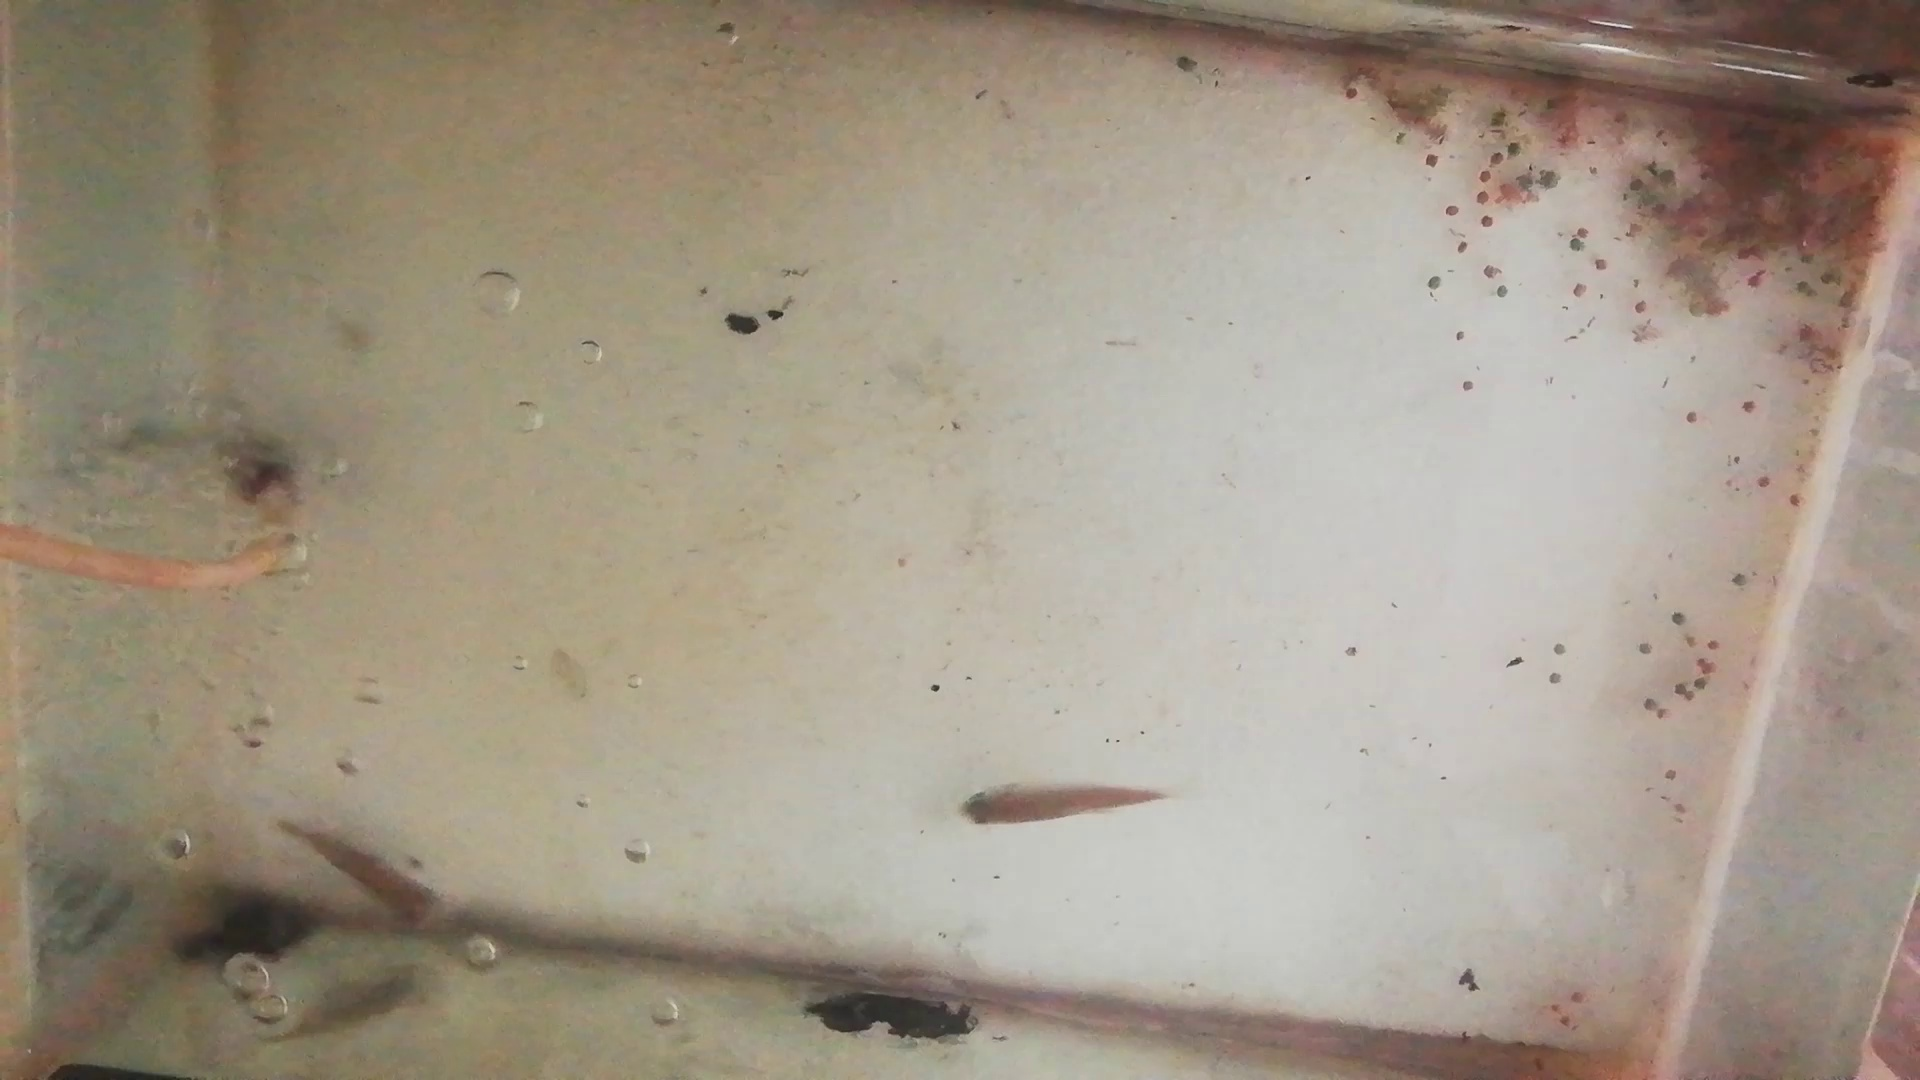fish: (273, 818, 442, 938), (955, 783, 1164, 825)
